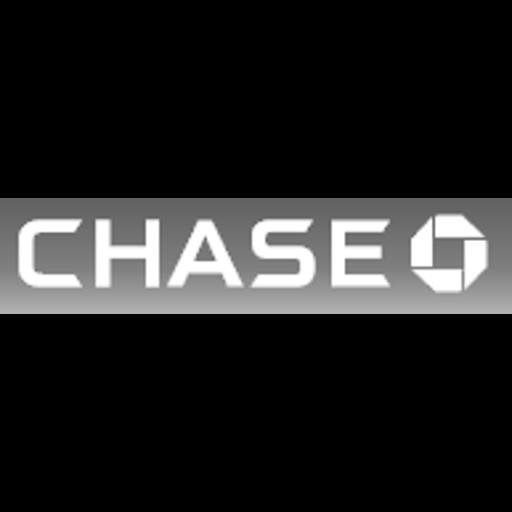Chase Personal Banking: (0, 198, 512, 314)
